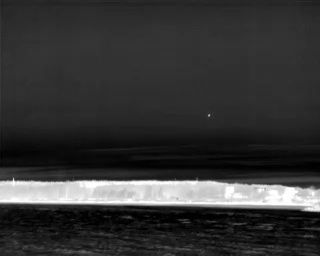HELICOPTER: (205, 111, 214, 122)
